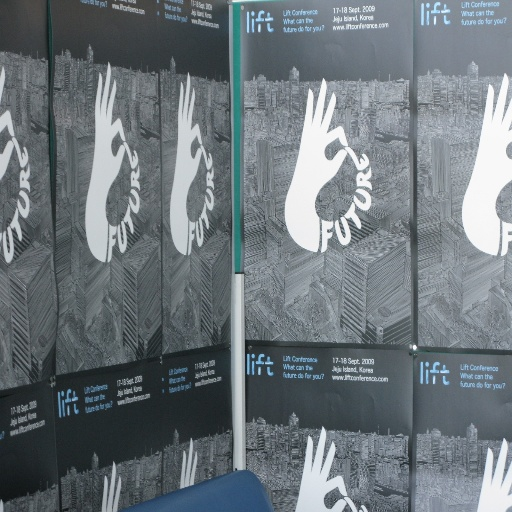hand: (292, 76, 348, 191), (471, 71, 511, 200), (93, 58, 126, 186), (178, 72, 203, 186), (301, 437, 342, 503), (476, 438, 511, 511), (0, 63, 15, 182), (180, 436, 199, 490), (103, 460, 122, 511)
